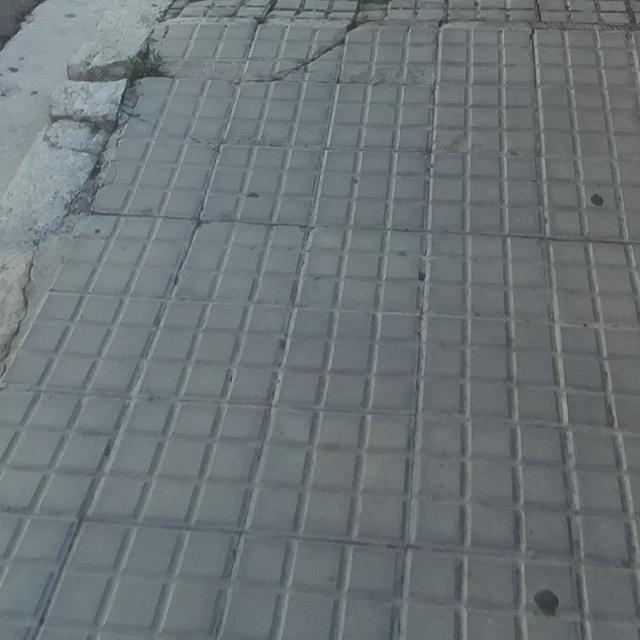calcada_quebrada: (236, 15, 378, 82)
